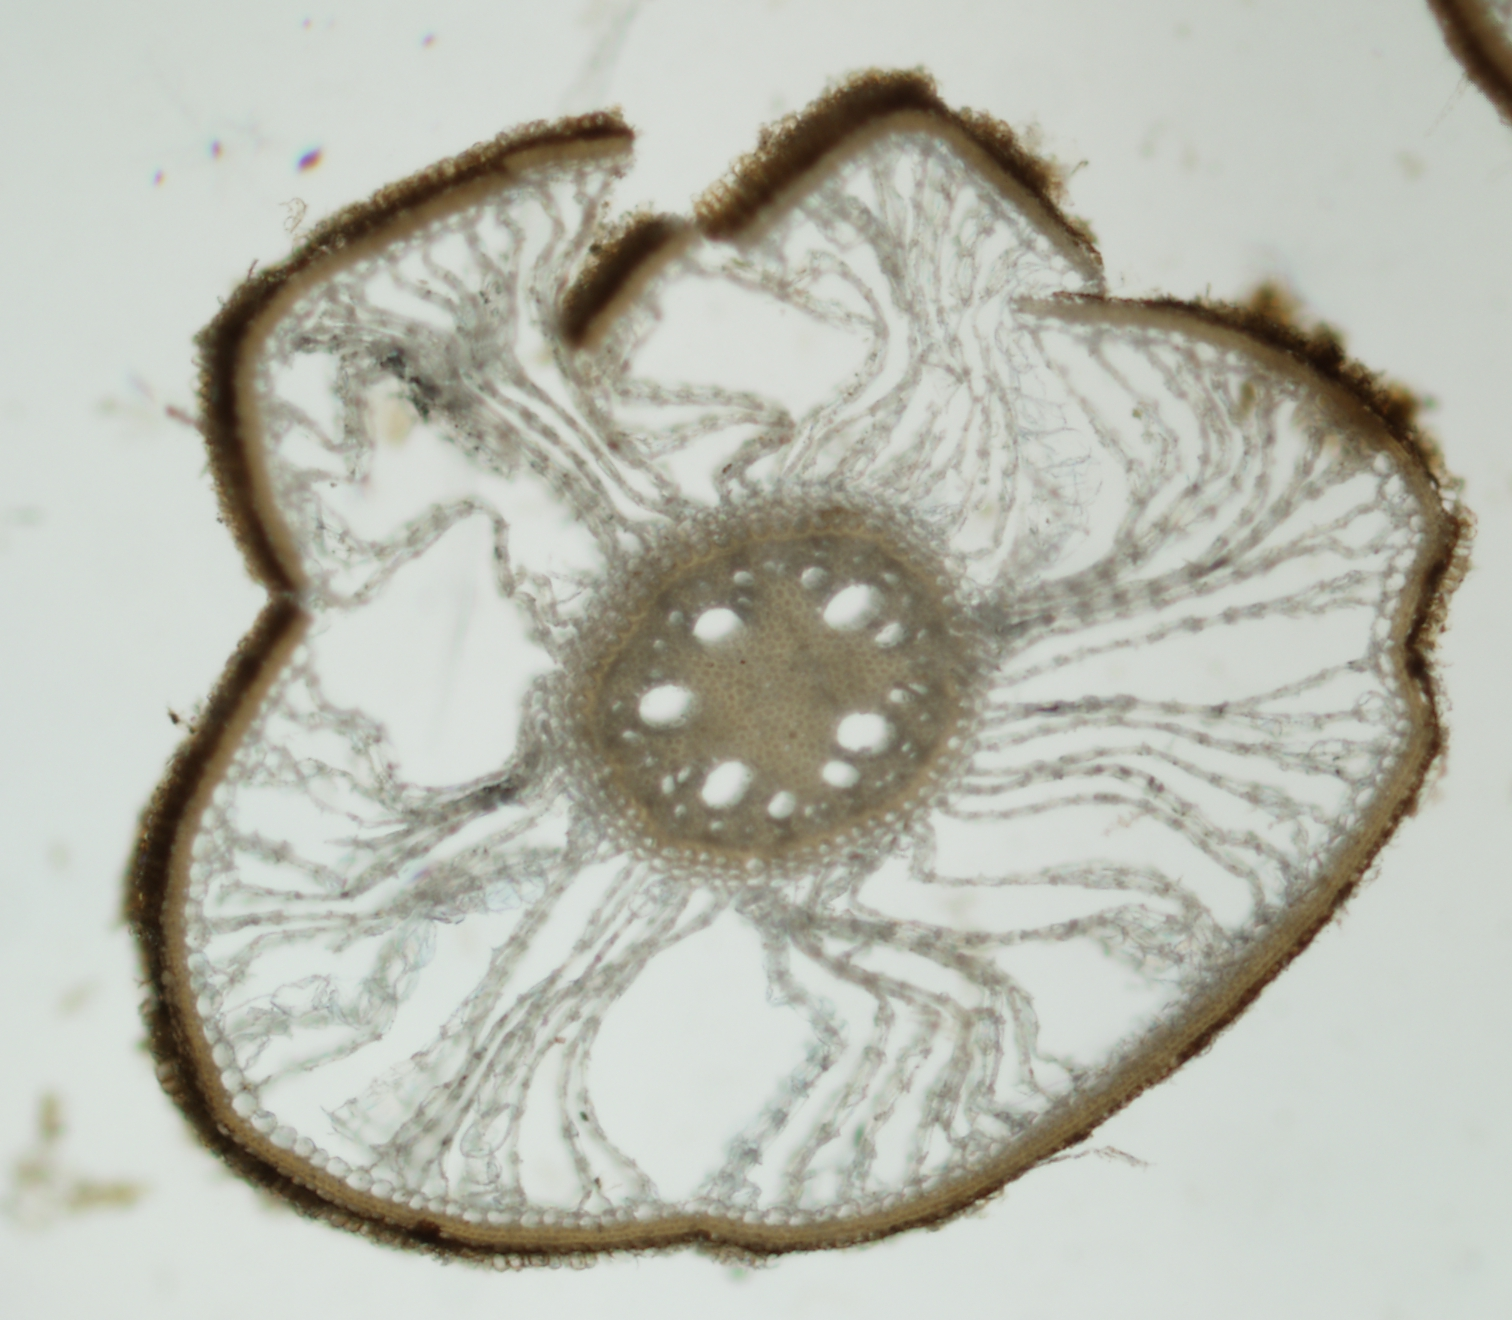lm: (824, 584, 885, 631), (638, 684, 703, 727), (701, 761, 756, 808), (837, 712, 897, 754), (693, 607, 746, 650), (822, 760, 861, 789), (768, 790, 796, 817)
